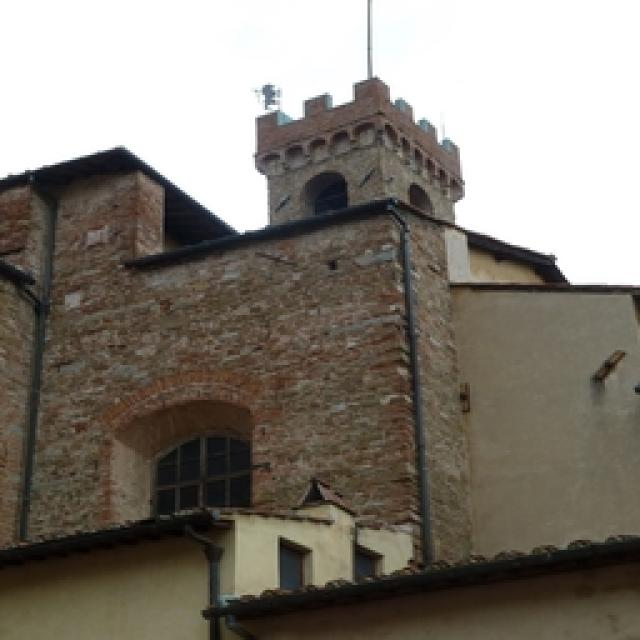Abbey: (85, 294, 308, 505)
